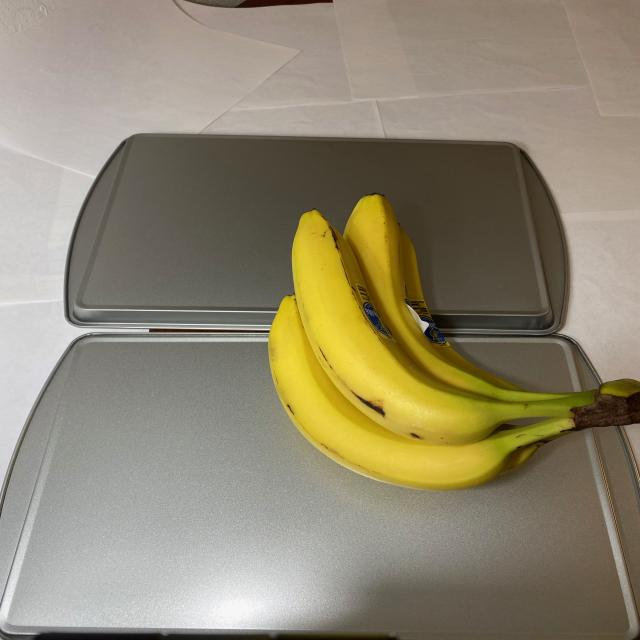banana: (262, 191, 634, 495)
